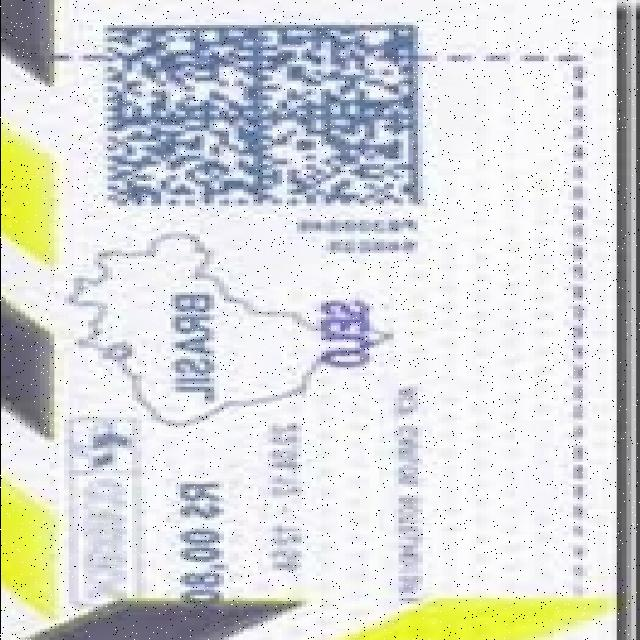datamatrix: (82, 14, 436, 211)
